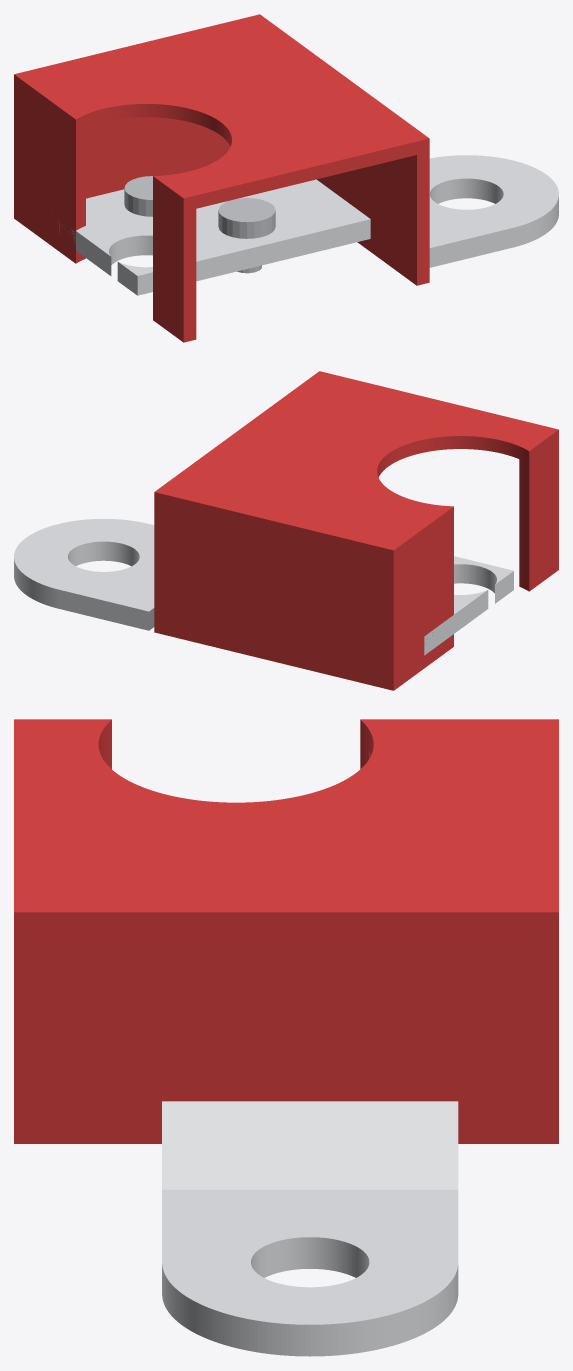
Rendered from blueseas-2340-pos-drilled.glb.
3 views of the same model, one above another, from view 1: azimuth 30°, elevation 25°; view 2: azimuth 150°, elevation 25°; view 3: azimuth 270°, elevation 25° (orthographic). The views are drawn at different scales.
Visible parts, largest first — view 1: cover, bus, tab, screws; view 2: cover, tab, bus; view 3: cover, tab, bus.
Part boxes in pixels (<box>): cover: <box>14,14,429,342</box>; bus: <box>51,179,456,295</box>; tab: <box>429,155,558,261</box>; screws: <box>124,176,275,273</box>; cover: <box>154,371,558,690</box>; tab: <box>14,518,154,621</box>; bus: <box>113,556,513,655</box>; cover: <box>14,719,558,1143</box>; tab: <box>162,1199,458,1356</box>; bus: <box>162,1101,458,1218</box>.
Bounding box in the file's own units: 0.0724 × 0.0265 × 0.0467.
